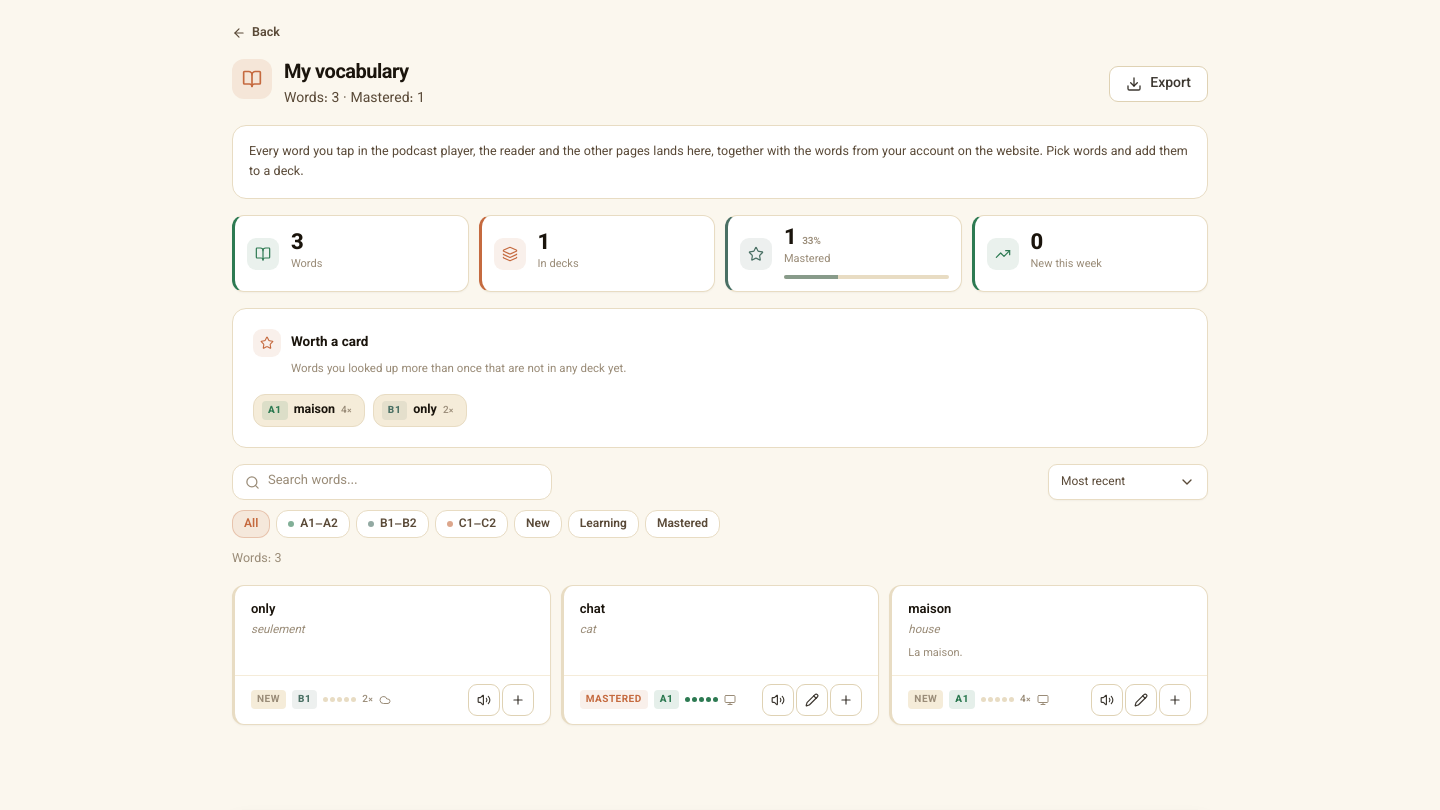
Test: vocabulary page › keeps the edit dialog open with the error when the save fails
The image size is (1440, 810).
Expected: the button with aria-label "Select word: maison" is shown, left=889, top=585, right=1208, bottom=725
Click the 2nd button named "Edit word". click: (1141, 700)
box: left=1125, top=684, right=1157, bottom=716
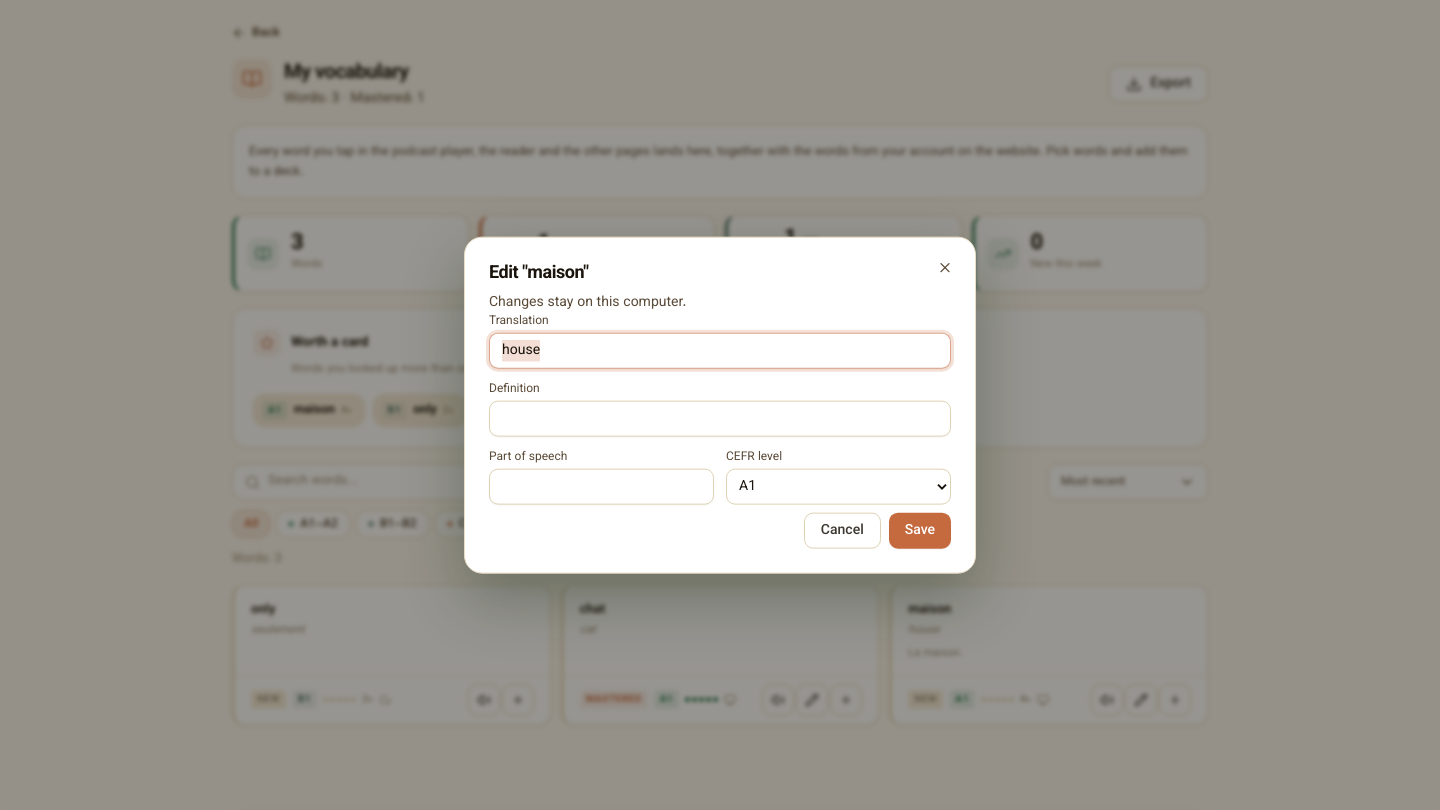
Click the button "Save". click: (920, 530)
box: left=889, top=512, right=951, bottom=548
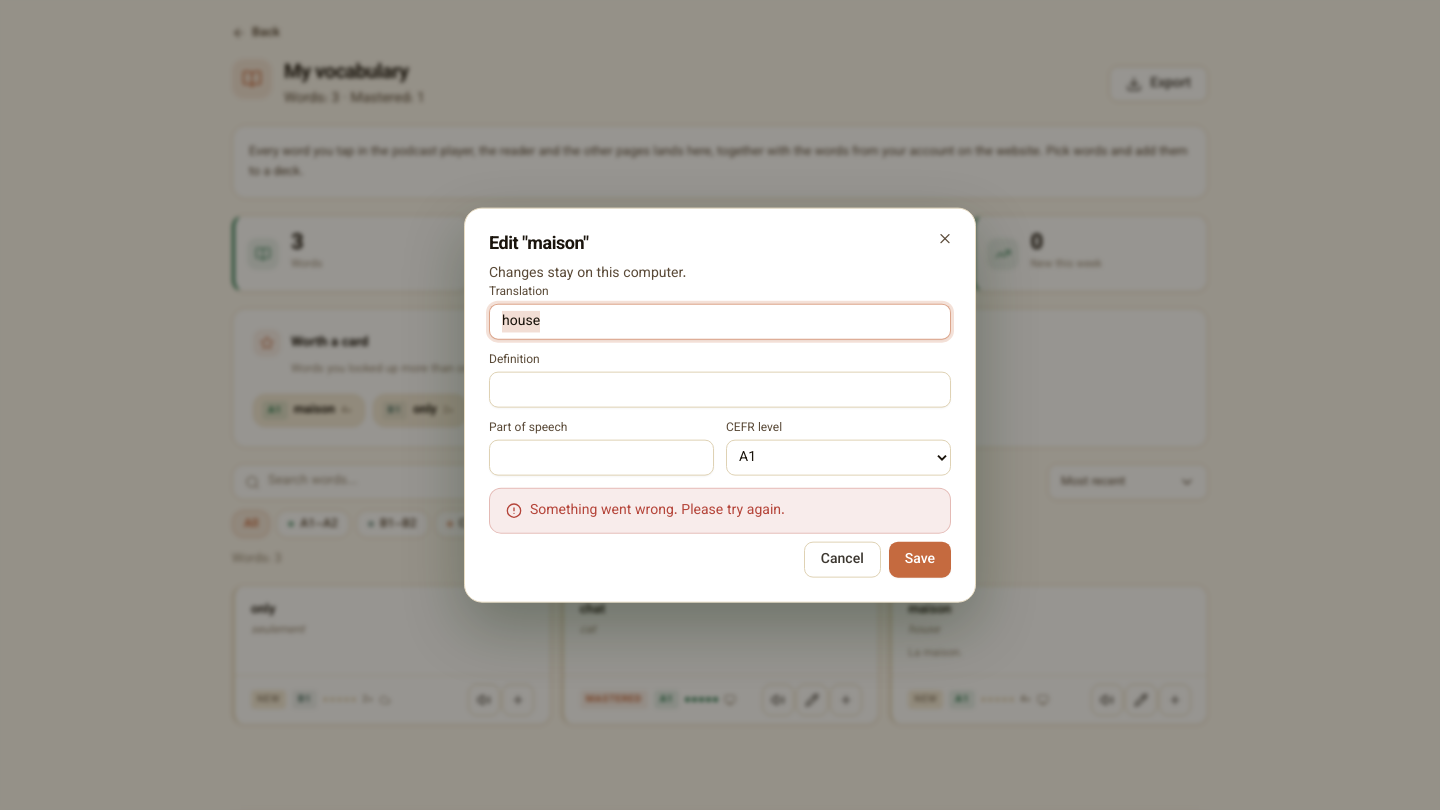
Expected: the dialog is shown, left=464, top=208, right=976, bottom=602
Expected: the text "Something went wrong. Please try again." is shown, left=530, top=499, right=785, bottom=521
